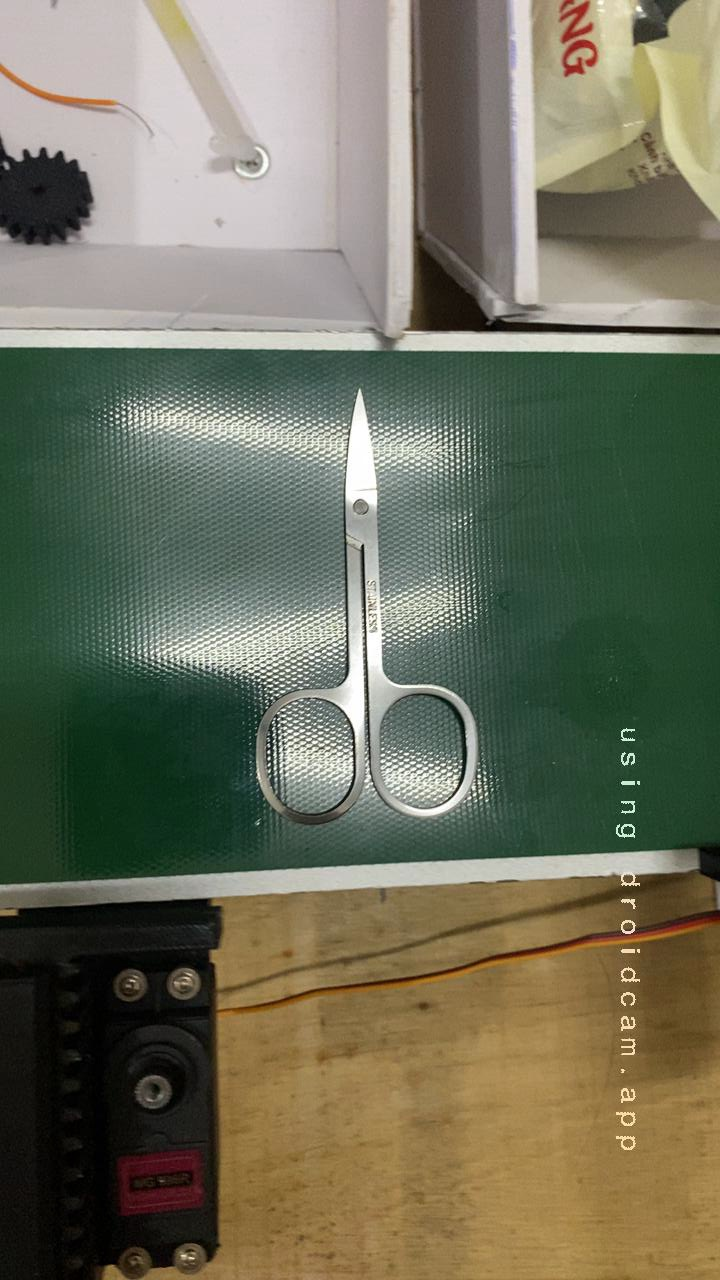scissor: (229, 531, 500, 864)
